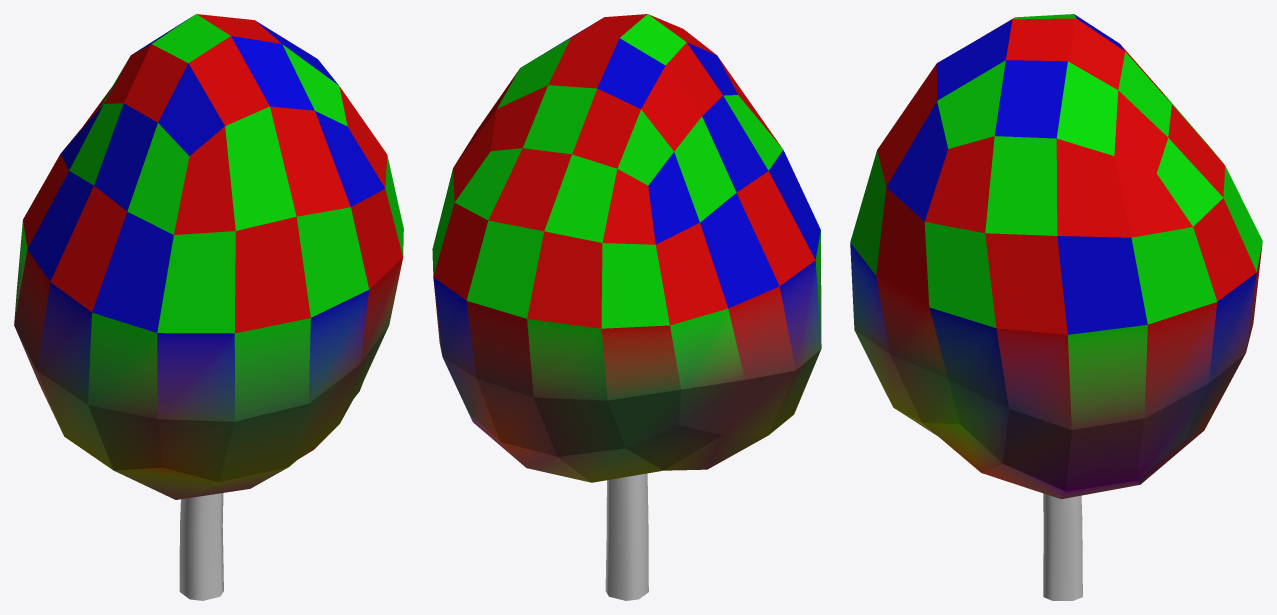
The model's file is Tree_C_01.fbx.
The picture shows the model from 3 angles, left to right: view 1: azimuth 30°, elevation 25°; view 2: azimuth 150°, elevation 25°; view 3: azimuth 270°, elevation 25°; orthographic projection. The views are drawn at different scales.
Visible parts, largest first — view 1: Tree_C_01_Leaves, Tree_C_01_Trunk; view 2: Tree_C_01_Leaves, Tree_C_01_Trunk; view 3: Tree_C_01_Leaves, Tree_C_01_Trunk.
Part boxes in pixels (box(x1,y1,x2,y2)): Tree_C_01_Leaves: box(14, 14, 403, 499); Tree_C_01_Trunk: box(179, 493, 223, 600); Tree_C_01_Leaves: box(432, 14, 821, 482); Tree_C_01_Trunk: box(605, 473, 648, 600); Tree_C_01_Leaves: box(850, 14, 1262, 499); Tree_C_01_Trunk: box(1043, 493, 1082, 600).
Bounding box in the file's own units: 1.29 × 2.05 × 1.33.
